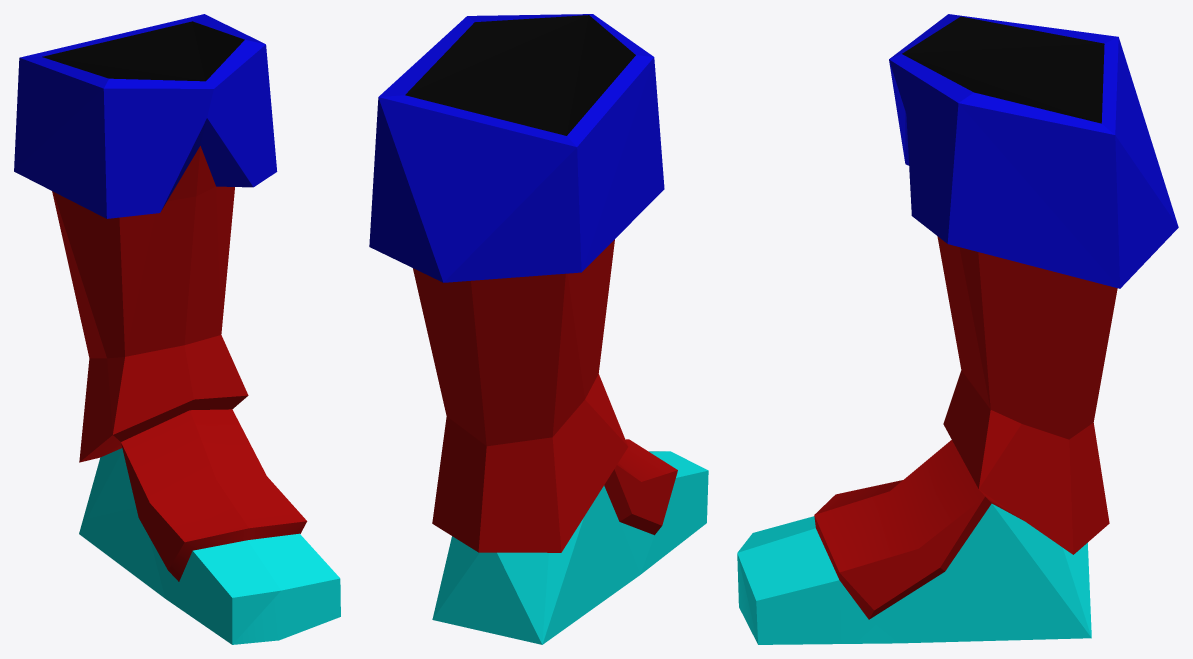
Rendered from Chr_LegRight_Male_Static_19.fbx.
The picture shows the model from 3 angles, left to right: view 1: azimuth 30°, elevation 25°; view 2: azimuth 150°, elevation 25°; view 3: azimuth 270°, elevation 25°; orthographic projection. The views are drawn at different scales.
Parts seen in each view (by area): view 1: Chr_LegRight_Male_19; view 2: Chr_LegRight_Male_19; view 3: Chr_LegRight_Male_19.
Part boxes in pixels (x1,y1,x2,y2): Chr_LegRight_Male_19: (14, 14, 340, 644); Chr_LegRight_Male_19: (369, 14, 708, 644); Chr_LegRight_Male_19: (737, 14, 1178, 644).
Bounding box in the file's own units: 16.3 × 40.45 × 29.23.
